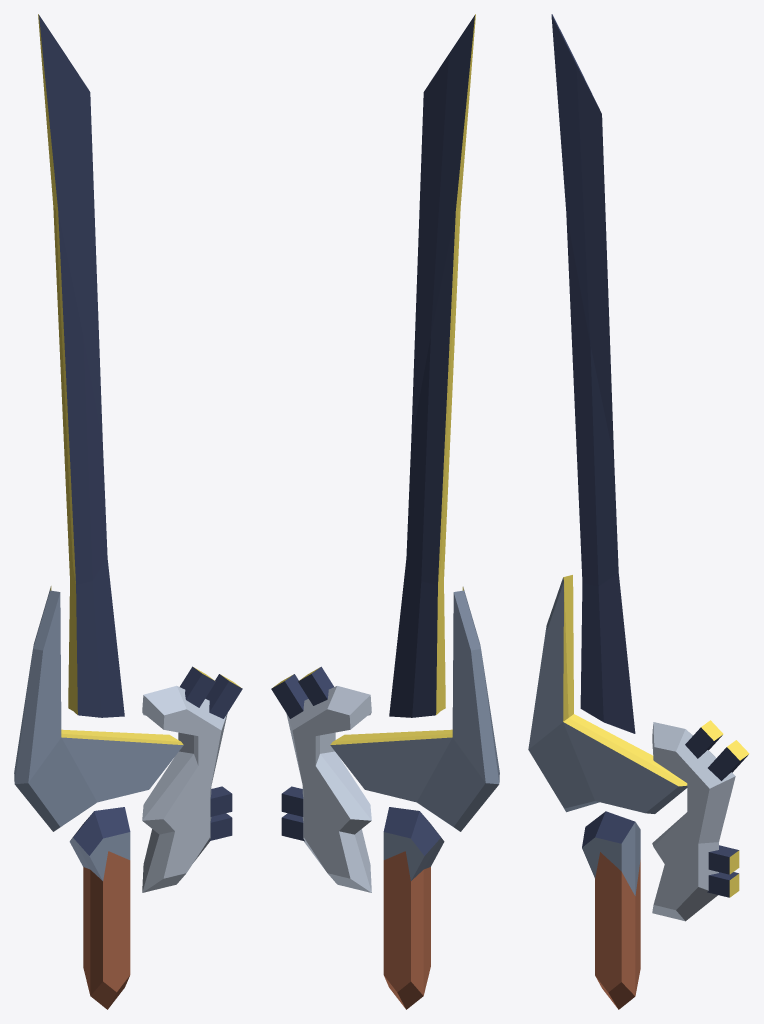
The model's file is sword2.fbx.
3 renders of one model, left to right at view 1: azimuth 30°, elevation 25°; view 2: azimuth 150°, elevation 25°; view 3: azimuth 330°, elevation 25°, orthographic. The views are drawn at different scales.
Visible parts, largest first — view 1: Cube.001; view 2: Cube.001; view 3: Cube.001.
Boxes of the visible parts, x1,y1,x2,y2 form: Cube.001: [14, 14, 242, 1009]; Cube.001: [271, 14, 499, 1009]; Cube.001: [528, 14, 749, 1009].
Size of the model in its own units: 129 by 560 by 20.
